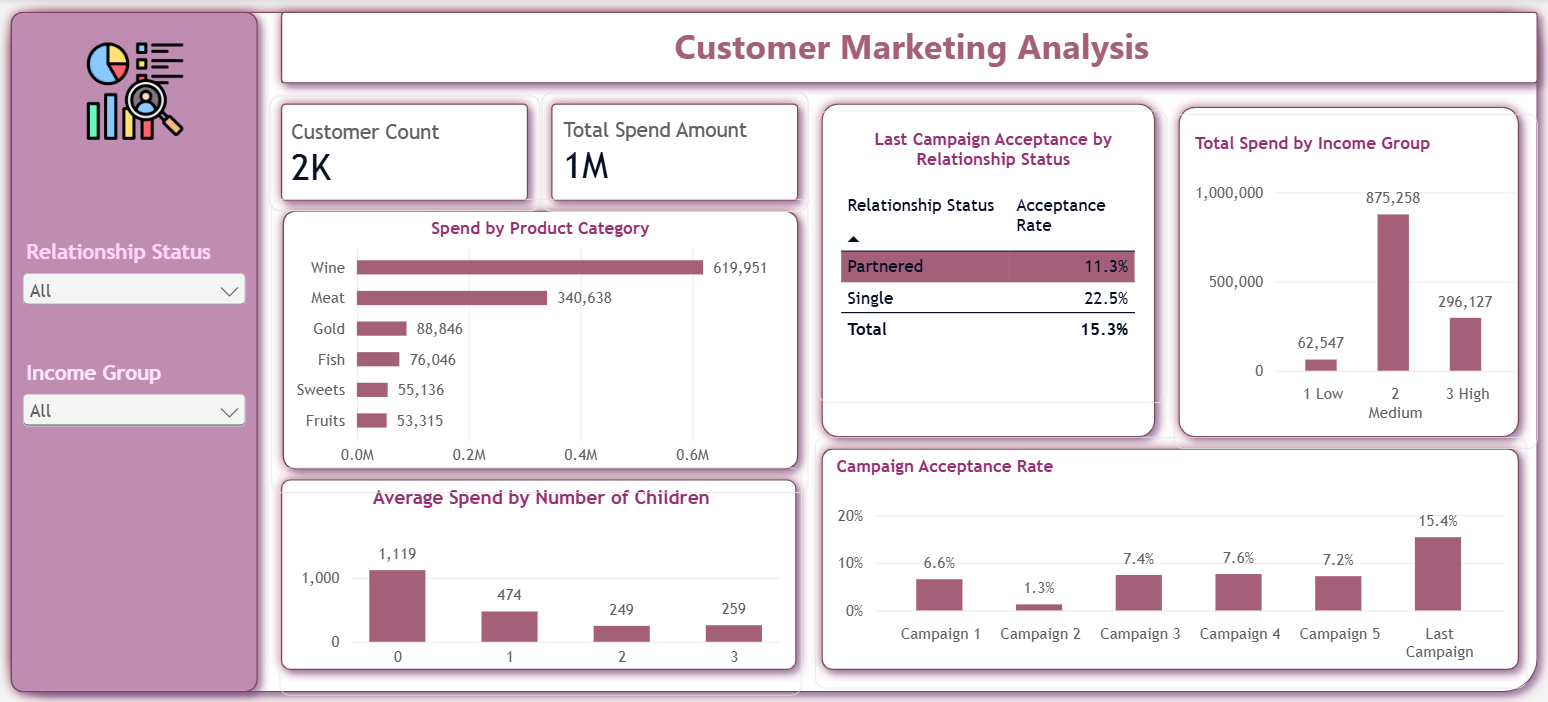

Layout of this report page (visuals, bound fields, positions):
{"tool":"powerbi","page":{"name":"Dashboard","canvas":[1200,545],"ordinal":0},"visuals":[{"type":"shape","box":[0,0,1200,544.7],"z":0},{"type":"shape","box":[0,0,209.2,544.7],"z":1000},{"type":"shape","box":[209.2,71.1,209.2,93.4],"z":2000},{"type":"shape","box":[418.4,71.1,209.2,93.4],"z":3000},{"type":"shape","box":[209.2,0,990.8,73.7],"z":4000},{"type":"textbox","box":[222.4,17.1,968.4,43.4],"z":5000},{"type":"shape","box":[210.5,153.9,417.1,218.4],"z":6000},{"type":"shape","box":[627.6,71.1,276.3,276.3],"z":7000},{"type":"shape","box":[903.9,73.7,281.6,273.7],"z":8000},{"type":"shape","box":[627.6,338.2,557.9,189.5],"z":9000},{"type":"shape","box":[209.2,361.8,417.1,165.8],"z":10000},{"type":"cardVisual","fields":{"Data":["marketing_project purchases.Customer Count"]},"box":[209.2,73.7,210.5,90.8],"z":11000},{"type":"cardVisual","fields":{"Data":["marketing_project purchases.Total Spend Amount"]},"box":[419.7,71.1,207.9,93.4],"z":12000},{"type":"slicer","fields":{"Values":["marketing_project customers.Income Group"]},"box":[13.2,278.9,182.9,65.8],"z":13000},{"type":"slicer","fields":{"Values":["marketing_project customers.relationship_status"]},"box":[13.2,185.5,182.9,50],"z":14000},{"type":"clusteredColumnChart","title":"Average Spend by Number of Children","fields":{"Category":["marketing_project customers.Total Children"],"Y":["marketing_project purchases.Avg Spend per Customer"]},"box":[217.1,361.8,403.9,176.3],"z":15000},{"type":"clusteredColumnChart","title":"Total Spend by Income Group","fields":{"Category":["marketing_project customers.Income Group"],"Y":["marketing_project purchases.Total Spend Amount"]},"box":[909.2,88.2,281.6,259.2],"z":16000},{"type":"clusteredColumnChart","title":"Campaign Acceptance Rate","fields":{"Category":["marketing_project campaigns.campaign_name"],"Y":["marketing_project purchases.Acceptance Rate"]},"box":[631.6,338.2,551.3,194.7],"z":17000},{"type":"clusteredBarChart","title":"Spend by Product Category","fields":{"Category":["Category Spend.Category"],"Y":["Sum(Category Spend.Spend)"]},"box":[210.5,153.9,415.8,227.6],"z":18000},{"type":"tableEx","title":"Last Campaign Acceptance by Relationship Status","fields":{"Values":["marketing_project customers.relationship_status","Category Spend.Last Campaign Acceptance Rate"]},"box":[634.2,85.5,269.7,226.3],"z":19000},{"type":"image","box":[25,32.9,160.5,75],"z":20000}]}

Visuals, with their boxes in screenshot pixels (x1, y1, x2, y2), scaled from the page's 1200x545 canvas onto the 1548x702 screenshot:
shape: detection(0, 0, 1547, 701)
shape: detection(0, 0, 270, 701)
shape: detection(270, 92, 540, 212)
shape: detection(540, 92, 810, 212)
shape: detection(270, 0, 1547, 95)
textbox: detection(287, 22, 1536, 78)
shape: detection(272, 198, 810, 480)
shape: detection(810, 92, 1166, 447)
shape: detection(1166, 95, 1529, 447)
shape: detection(810, 436, 1529, 680)
shape: detection(270, 466, 808, 680)
cardVisual - marketing_project purchases.Customer Count: detection(270, 95, 541, 212)
cardVisual - marketing_project purchases.Total Spend Amount: detection(541, 92, 810, 212)
slicer - marketing_project customers.Income Group: detection(17, 359, 253, 444)
slicer - marketing_project customers.relationship_status: detection(17, 239, 253, 303)
"Average Spend by Number of Children" clusteredColumnChart: detection(280, 466, 801, 693)
"Total Spend by Income Group" clusteredColumnChart: detection(1173, 114, 1536, 447)
"Campaign Acceptance Rate" clusteredColumnChart: detection(815, 436, 1526, 686)
"Spend by Product Category" clusteredBarChart: detection(272, 198, 808, 491)
"Last Campaign Acceptance by Relationship Status" tableEx: detection(818, 110, 1166, 402)
image: detection(32, 42, 239, 139)
